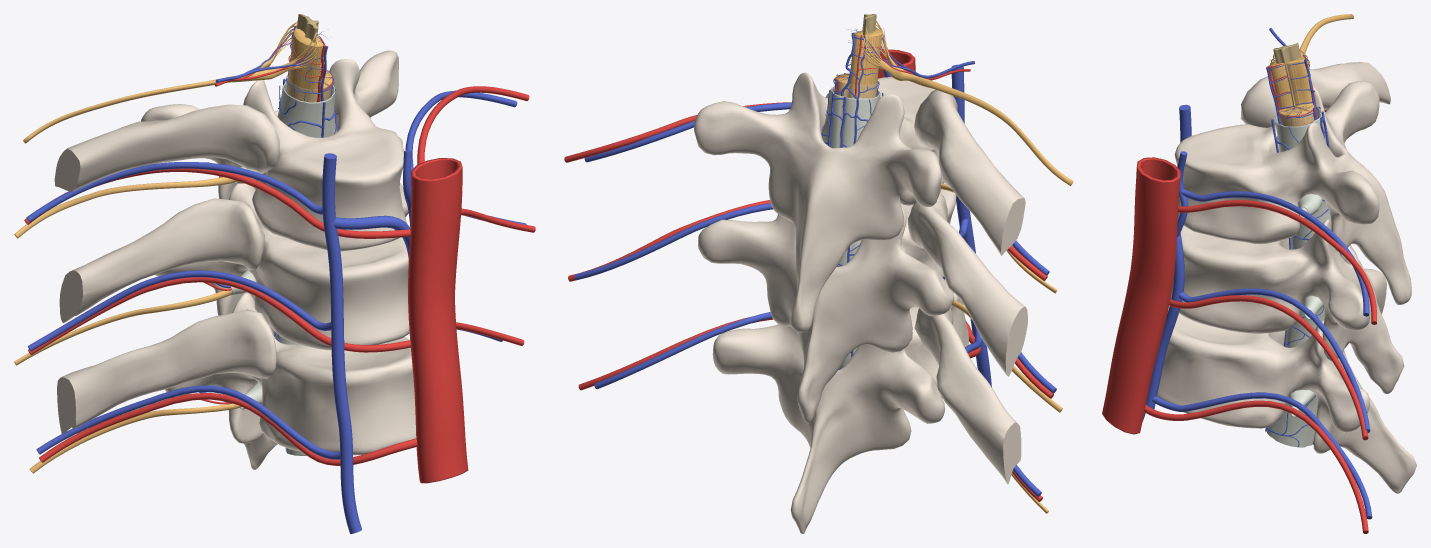
Rendered from spinal-cord.glb.
3 views of the same model, side by side, from view 1: azimuth 30°, elevation 25°; view 2: azimuth 150°, elevation 25°; view 3: azimuth 270°, elevation 25° (orthographic). The views are drawn at different scales.
Visible parts, largest first — view 1: Thoracic vertebrae (T6), Thoracic vertebrae (T8), Aorta, Thoracic vertebrae (T7), Rib (8th).r, Rib (6th).r, Rib (7th).r, Intercostal arteries.r, Intercostal veins, Azygos vein, Intercostal nerves.r, Dura mater (+2 smaller); view 2: Thoracic vertebrae (T6), Thoracic vertebrae (T7), Thoracic vertebrae (T8), Rib (7th).r, Rib (6th).r, Rib (8th).r, Intercostal veins, Intercostal arteries.r, Intercostal nerves.r, Dura mater, Spinal cord, Azygos vein (+2 smaller); view 3: Thoracic vertebrae (T6), Thoracic vertebrae (T8), Thoracic vertebrae (T7), Aorta, Intercostal arteries.r, Intercostal veins, Dura mater, Rib (6th).r, Azygos vein, Spinal cord, Internal venous plexus, Grey matter (+2 smaller).
Boxes of the visible parts, box(x1,y1,x2,y2) form: Thoracic vertebrae (T6): box(141, 50, 407, 251); Thoracic vertebrae (T8): box(165, 292, 416, 469); Aorta: box(408, 158, 468, 483); Thoracic vertebrae (T7): box(155, 183, 409, 350); Rib (8th).r: box(57, 309, 276, 433); Rib (6th).r: box(54, 104, 279, 191); Rib (7th).r: box(59, 198, 264, 322); Intercostal arteries.r: box(24, 86, 535, 465); Intercostal veins: box(26, 90, 526, 459); Azygos vein: box(322, 150, 411, 533); Intercostal nerves.r: box(14, 75, 241, 473); Dura mater: box(228, 79, 336, 455); Thoracic vertebrae (T6): box(694, 72, 944, 332); Thoracic vertebrae (T7): box(698, 182, 956, 423); Thoracic vertebrae (T8): box(712, 279, 969, 533); Rib (7th).r: box(908, 194, 1027, 376); Rib (6th).r: box(914, 89, 1025, 255); Rib (8th).r: box(914, 307, 1021, 484); Intercostal veins: box(574, 102, 1056, 496); Intercostal arteries.r: box(564, 102, 1053, 501); Intercostal nerves.r: box(921, 78, 1073, 513); Dura mater: box(821, 86, 880, 369); Spinal cord: box(834, 28, 882, 98); Azygos vein: box(883, 59, 991, 386); Thoracic vertebrae (T6): box(1174, 80, 1411, 304); Thoracic vertebrae (T8): box(1157, 305, 1416, 493); Thoracic vertebrae (T7): box(1170, 219, 1404, 393); Aorta: box(1102, 157, 1180, 434); Intercostal arteries.r: box(1144, 110, 1376, 533); Intercostal veins: box(1152, 189, 1372, 519); Dura mater: box(1267, 108, 1331, 447); Rib (6th).r: box(1240, 62, 1390, 127); Azygos vein: box(1142, 104, 1191, 421); Spinal cord: box(1269, 56, 1314, 126); Internal venous plexus: box(1265, 106, 1341, 447); Grey matter: box(1273, 42, 1309, 111).
Size of the model in its own units: 1.18 by 1.09 by 0.6956.
Materials: 13 (1 with a texture image).
